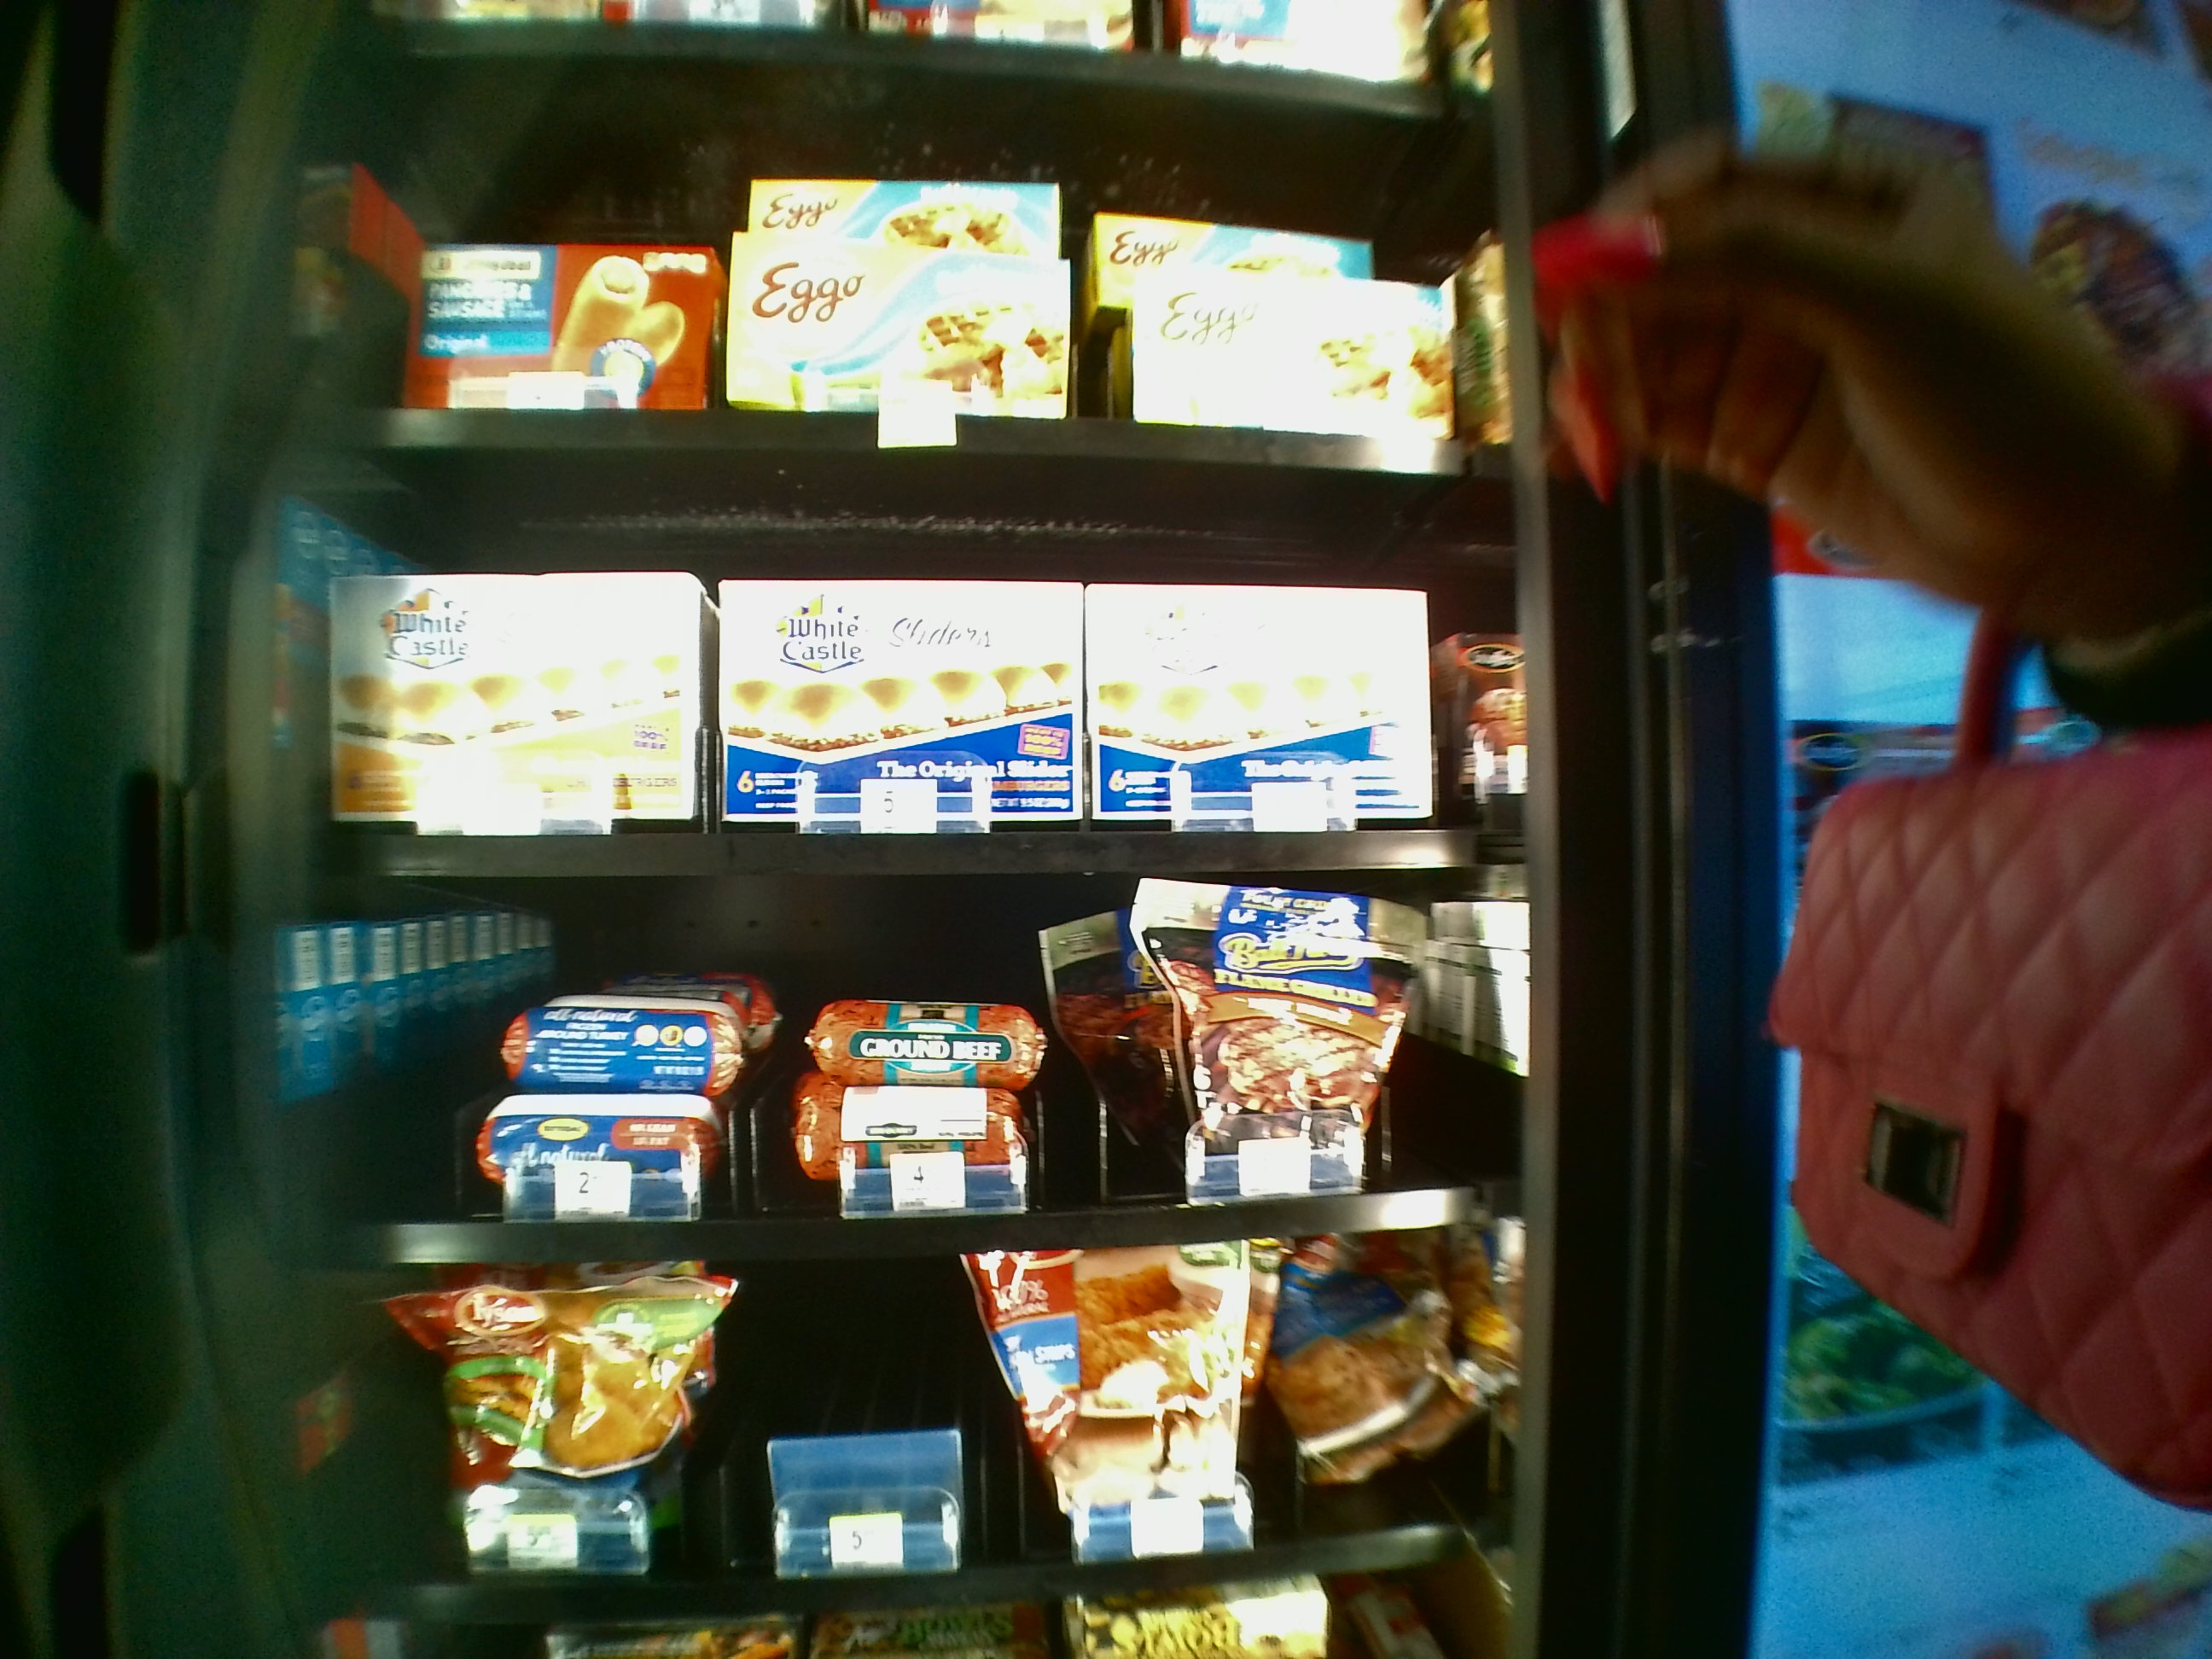shelf: (310, 446, 1514, 873), (310, 892, 1514, 1274)
